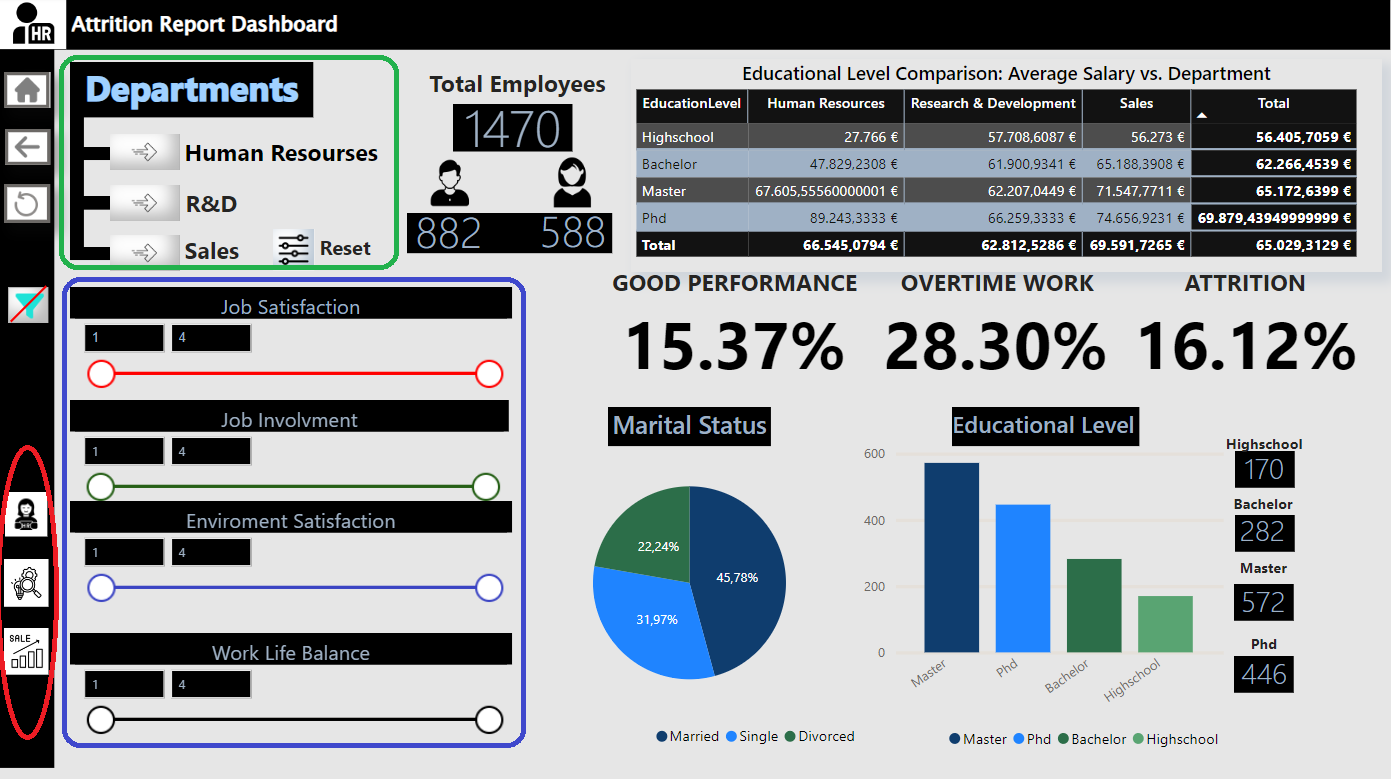

This screenshot's page, from the dashboard's own definition file:
{"tool":"powerbi","page":{"name":"Home","canvas":[1280,720],"ordinal":0},"visuals":[{"type":"shape","box":[876.2,377.5,172.5,36.2],"z":0},{"type":"shape","box":[0,0,50.5,709.8],"z":1000},{"type":"image","box":[5,456.1,38.9,41.1],"z":1000,"group":"g1"},{"type":"image","box":[4.2,69.2,41.7,33.3],"z":2000},{"type":"shape","box":[560,377.5,150,36.2],"z":3000},{"type":"shape","box":[64.3,60,224.3,51.4],"z":4000},{"type":"shape","box":[417.5,98.8,110,43.8],"z":5000},{"type":"shape","box":[374.7,198.9,188.9,37.4],"z":6000},{"type":"card","fields":{"Values":["CountNonNull(Employees_Table.Gender)"]},"box":[374.7,186.3,77.4,57.4],"z":7000},{"type":"image","box":[387.5,142.5,52.5,56.2],"z":8000},{"type":"card","fields":{"Values":["CountNonNull(Employees_Table.Gender)"]},"box":[487.9,190,78.9,48.9],"z":9000},{"type":"image","box":[498.8,142.5,56.2,56.2],"z":10000},{"type":"card","fields":{"Values":["CountNonNull(Employees_Table.Gender)"]},"box":[417.5,90,110,57.5],"z":11000},{"type":"textbox","box":[383.8,60,185,38.8],"z":12000},{"type":"pieChart","title":"Marital Status","fields":{"Y":["CountNonNull(Employees_Table.MaritalStatus)"],"Category":["Employees_Table.MaritalStatus"]},"box":[472.5,378.8,325,321.2],"z":13000},{"type":"shape","box":[37.1,0,13.4,17.8],"z":14000},{"type":"shape","box":[0,0,1280,48.6],"z":15000},{"type":"textbox","box":[60.9,6.4,294.5,41.8],"z":16000},{"type":"columnChart","title":"Educational Level","fields":{"Y":["CountNonNull(Employees_Table.EducationLevel)"],"Category":["Employees_Table.EducationLevel"],"Series":["Employees_Table.EducationLevel"]},"box":[790,378.3,341.7,323.3],"z":17000},{"type":"textbox","box":[64.3,55.7,224.3,55.7],"z":18000},{"type":"shape","box":[64.4,108.4,12.8,130.6],"z":19000},{"type":"shape","box":[64.4,230,37,12.2],"z":20000},{"type":"shape","box":[64.4,183,37,12.6],"z":21000},{"type":"shape","box":[64.4,137.8,37.2,12.2],"z":22000},{"type":"pivotTable","title":"Educational Level Comparison: Average Salary vs. Department","fields":{"Rows":["Employees_Table.EducationLevel"],"Values":["Avg(Salary_Table.MonthlyIncome)"],"Columns":["Employees_Table.Department"]},"box":[581.1,56.7,691.1,195.6],"z":23000},{"type":"card","fields":{"Values":["Metrics_Table.Attrition_yes"]},"box":[1026.7,266.7,241.1,98.9],"z":24000},{"type":"textbox","box":[1037.8,243.3,217.8,45.6],"z":25000},{"type":"slicer","title":"Job Satisfaction","fields":{"Values":["Metrics_Table.JobSatisfaction"]},"box":[64.4,266.7,406.7,98.9],"z":26000},{"type":"slicer","title":"Job Involvment","fields":{"Values":["Metrics_Table.JobInvolvement"]},"box":[64.3,371.4,404.3,101.4],"z":27000},{"type":"slicer","title":"Enviroment Satisfaction","fields":{"Values":["Metrics_Table.EnvironmentSatisfaction"]},"box":[64.4,464.4,406.7,108.9],"z":28000},{"type":"slicer","title":"Work Life Balance","fields":{"Values":["Metrics_Table.JobSatisfaction"]},"box":[64.3,585.7,407.1,102.9],"z":29000},{"type":"shape","box":[1135.9,606.4,55.4,33.8],"z":30000},{"type":"shape","box":[1135.9,540.2,55.4,33.8],"z":31000},{"type":"shape","box":[1136.7,477.2,55.4,33.8],"z":32000},{"type":"shape","box":[1136.7,417.9,55.4,33.8],"z":33000},{"type":"card","fields":{"Values":["CountNonNull(Employees_Table.EducationLevel)"]},"box":[1087.6,452.4,150,78.6],"z":34000},{"type":"card","fields":{"Values":["CountNonNull(Employees_Table.EducationLevel)"]},"box":[1088.3,396.3,151.3,77.3],"z":35000},{"type":"card","fields":{"Values":["CountNonNull(Employees_Table.EducationLevel)"]},"box":[1087.6,518.1,151.4,77.1],"z":36000},{"type":"card","fields":{"Values":["CountNonNull(Employees_Table.EducationLevel)"]},"box":[1088.3,585,151.3,77.3],"z":37000},{"type":"textbox","box":[1071.3,396.4,184.6,38.5],"z":38000},{"type":"textbox","box":[1122.8,452.2,81.2,40],"z":39000},{"type":"textbox","box":[1107.8,511,111.2,38.8],"z":40000},{"type":"textbox","box":[1132.8,581,62.5,30],"z":41000},{"type":"actionButton","box":[4.1,69.1,41.8,33.2],"z":42000},{"type":"image","box":[0,0,61.3,48],"z":43000},{"type":"image","box":[4.1,173.6,41.8,33.2],"z":44000},{"type":"image","box":[5,121.4,40.9,33.2],"z":45000},{"type":"actionButton","box":[4.5,121.4,41.8,33.2],"z":46000},{"type":"actionButton","box":[3.3,172.5,42.5,35.8],"z":47000},{"type":"card","fields":{"Values":["Salary_Table.Overtime_yes"]},"box":[796.7,266.7,241.1,98.9],"z":48000},{"type":"textbox","box":[808.9,243.3,217.8,45.6],"z":49000},{"type":"card","fields":{"Values":["Metrics_Table.Lower_Performance"]},"box":[555.6,266.7,241.1,98.9],"z":50000},{"type":"textbox","box":[551.1,243.3,250,46.7],"z":51000},{"type":"image","box":[7.1,267.1,37.1,32.9],"z":52000},{"type":"textbox","box":[165,123.3,201.1,38.9],"z":53000},{"type":"image","box":[101.7,126.1,63.9,32.8],"z":54000},{"type":"image","box":[101.1,172.8,63.9,32.8],"z":55000},{"type":"image","box":[101.7,219.4,63.9,32.8],"z":56000},{"type":"textbox","box":[165.6,170,201.1,38.9],"z":57000},{"type":"textbox","box":[165,213.8,72.5,38.8],"z":58000},{"type":"shape","box":[6.9,265.4,37.7,34.6],"z":59000},{"type":"image","box":[4,517,41,44],"z":60000},{"type":"image","box":[4,581,41,43],"z":61000},{"type":"group","id":"g1","title":"Group 1","box":[5,456.1,38.9,41.1],"z":62000},{"type":"image","box":[251.5,213.8,37.7,38.5],"z":63000},{"type":"textbox","box":[289.2,213.1,125.4,39.2],"z":64000}]}

Visuals, with their boxes on the page's 1280x720 design canvas (x1, y1, x2, y2). These are canvas units, not pixel positions in the 1391x779 screenshot, which may show the page scaled, cropped or inside an application window:
shape: box=[876, 378, 1049, 414]
shape: box=[0, 0, 50, 710]
image: box=[5, 456, 44, 497]
image: box=[4, 69, 46, 102]
shape: box=[560, 378, 710, 414]
shape: box=[64, 60, 289, 111]
shape: box=[418, 99, 528, 143]
shape: box=[375, 199, 564, 236]
card - CountNonNull(Employees_Table.Gender): box=[375, 186, 452, 244]
image: box=[388, 142, 440, 199]
card - CountNonNull(Employees_Table.Gender): box=[488, 190, 567, 239]
image: box=[499, 142, 555, 199]
card - CountNonNull(Employees_Table.Gender): box=[418, 90, 528, 148]
textbox: box=[384, 60, 569, 99]
"Marital Status" pieChart: box=[472, 379, 798, 700]
shape: box=[37, 0, 50, 18]
shape: box=[0, 0, 1280, 49]
textbox: box=[61, 6, 355, 48]
"Educational Level" columnChart: box=[790, 378, 1132, 702]
textbox: box=[64, 56, 289, 111]
shape: box=[64, 108, 77, 239]
shape: box=[64, 230, 101, 242]
shape: box=[64, 183, 101, 196]
shape: box=[64, 138, 102, 150]
"Educational Level Comparison: Average Salary vs. Department" pivotTable: box=[581, 57, 1272, 252]
card - Metrics_Table.Attrition_yes: box=[1027, 267, 1268, 366]
textbox: box=[1038, 243, 1256, 289]
"Job Satisfaction" slicer: box=[64, 267, 471, 366]
"Job Involvment" slicer: box=[64, 371, 469, 473]
"Enviroment Satisfaction" slicer: box=[64, 464, 471, 573]
"Work Life Balance" slicer: box=[64, 586, 471, 689]
shape: box=[1136, 606, 1191, 640]
shape: box=[1136, 540, 1191, 574]
shape: box=[1137, 477, 1192, 511]
shape: box=[1137, 418, 1192, 452]
card - CountNonNull(Employees_Table.EducationLevel): box=[1088, 452, 1238, 531]
card - CountNonNull(Employees_Table.EducationLevel): box=[1088, 396, 1240, 474]
card - CountNonNull(Employees_Table.EducationLevel): box=[1088, 518, 1239, 595]
card - CountNonNull(Employees_Table.EducationLevel): box=[1088, 585, 1240, 662]
textbox: box=[1071, 396, 1256, 435]
textbox: box=[1123, 452, 1204, 492]
textbox: box=[1108, 511, 1219, 550]
textbox: box=[1133, 581, 1195, 611]
actionButton: box=[4, 69, 46, 102]
image: box=[0, 0, 61, 48]
image: box=[4, 174, 46, 207]
image: box=[5, 121, 46, 155]
actionButton: box=[4, 121, 46, 155]
actionButton: box=[3, 172, 46, 208]
card - Salary_Table.Overtime_yes: box=[797, 267, 1038, 366]
textbox: box=[809, 243, 1027, 289]
card - Metrics_Table.Lower_Performance: box=[556, 267, 797, 366]
textbox: box=[551, 243, 801, 290]
image: box=[7, 267, 44, 300]
textbox: box=[165, 123, 366, 162]
image: box=[102, 126, 166, 159]
image: box=[101, 173, 165, 206]
image: box=[102, 219, 166, 252]
textbox: box=[166, 170, 367, 209]
textbox: box=[165, 214, 238, 253]
shape: box=[7, 265, 45, 300]
image: box=[4, 517, 45, 561]
image: box=[4, 581, 45, 624]
"Group 1" group: box=[5, 456, 44, 497]
image: box=[252, 214, 289, 252]
textbox: box=[289, 213, 415, 252]
